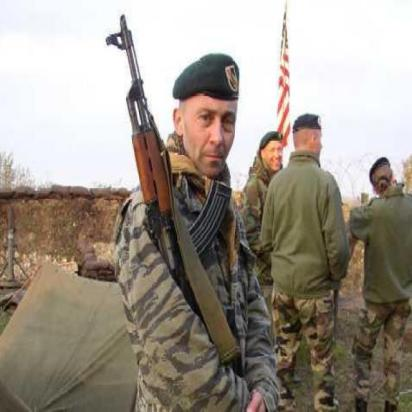Gun: (117, 11, 182, 234)
